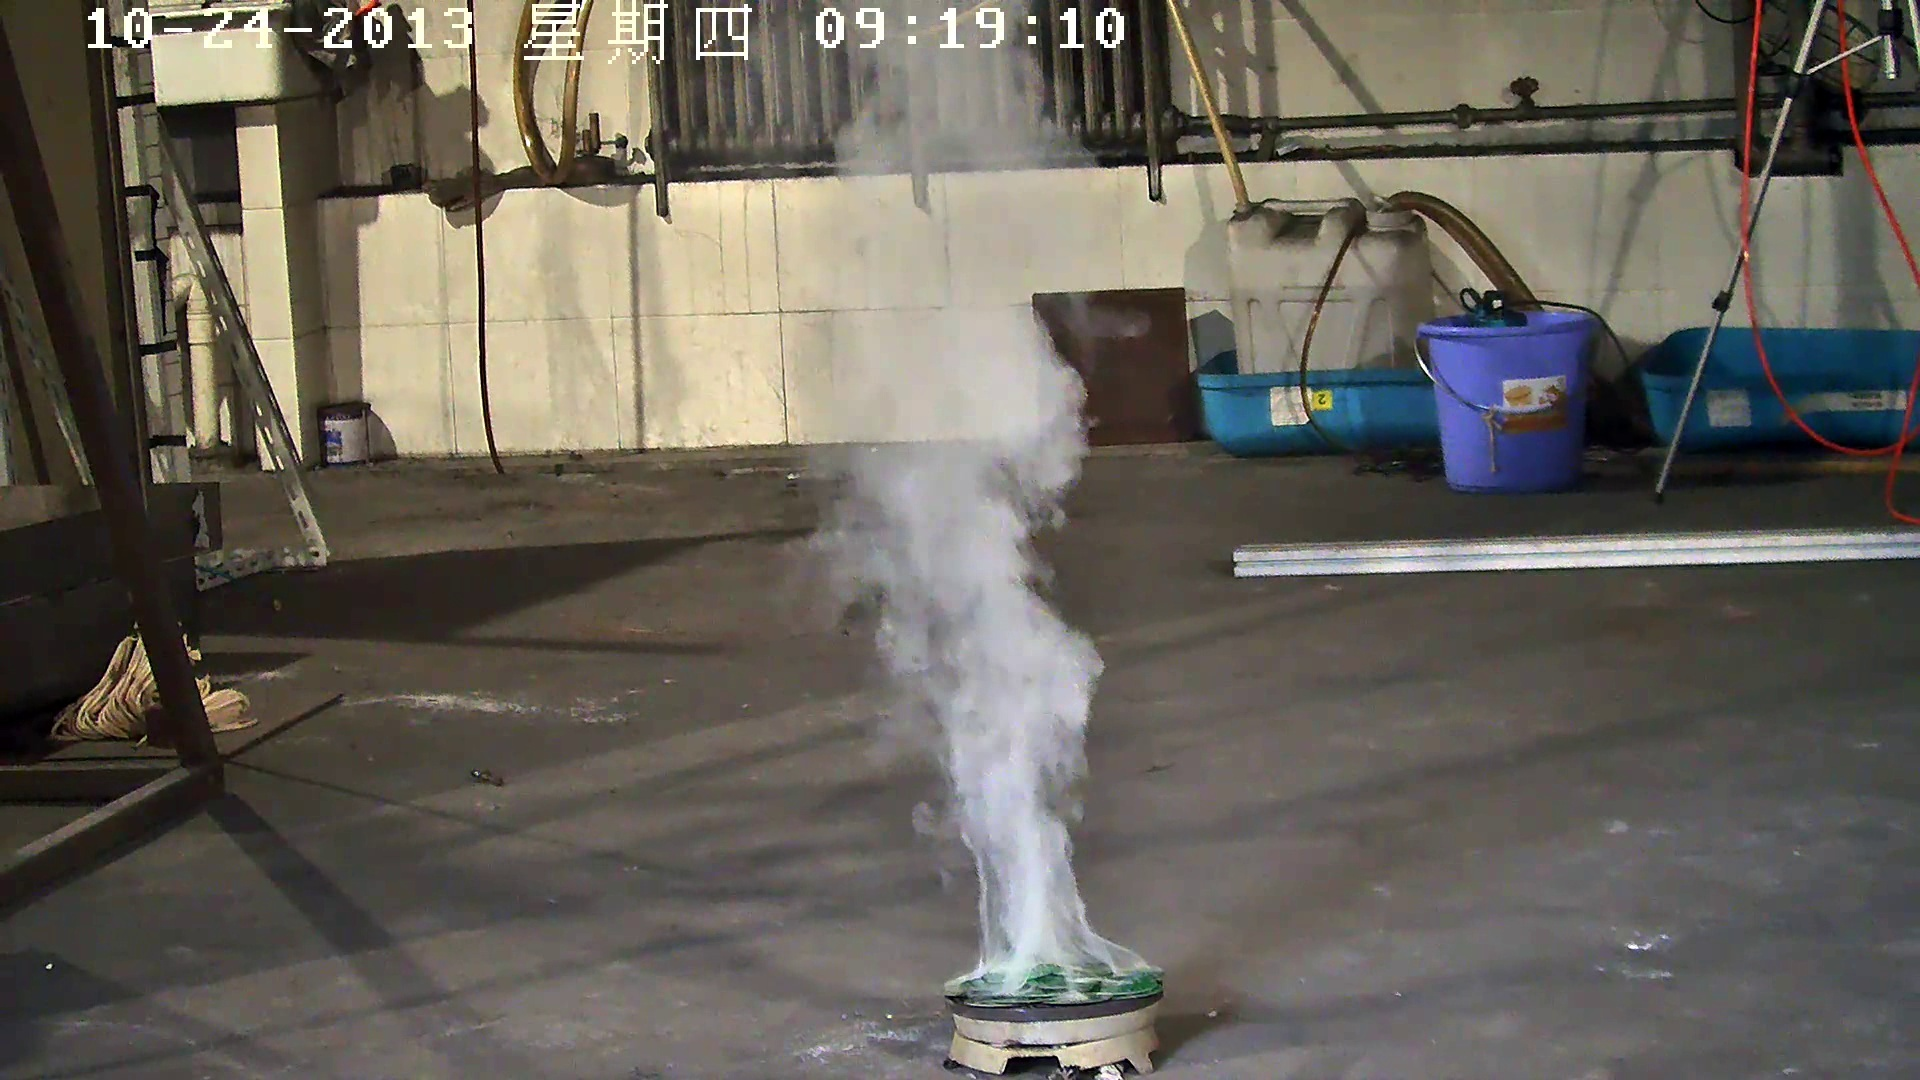smoke: (748, 9, 1178, 980)
